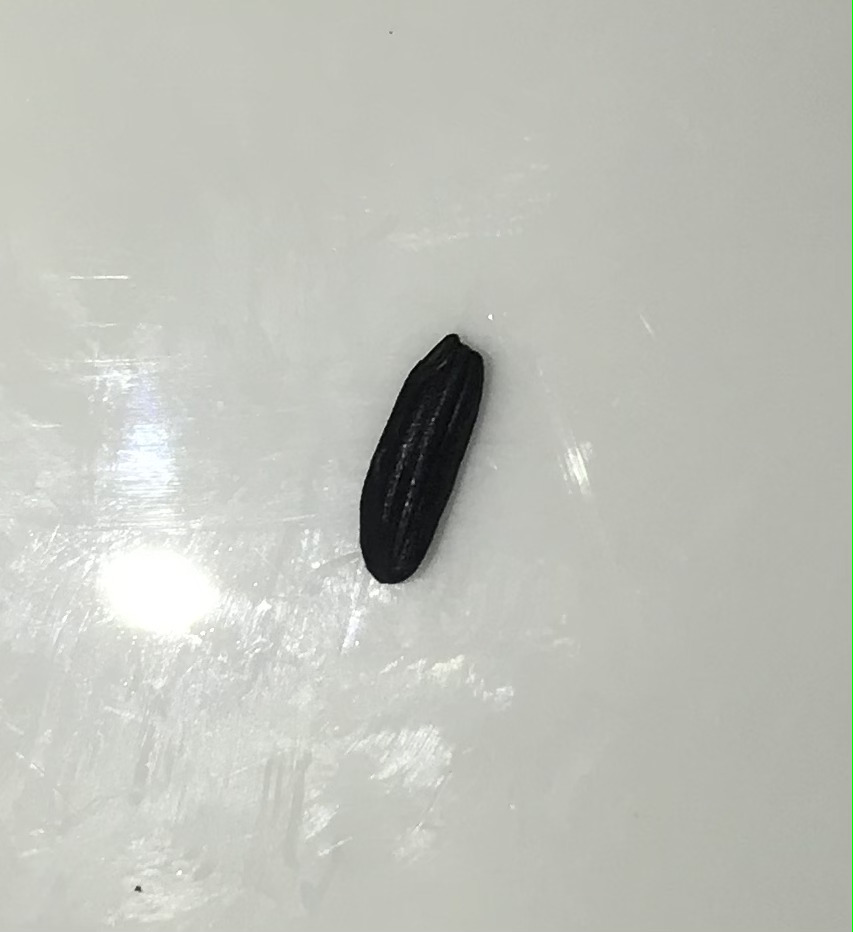Gao lut: (352, 335, 481, 583)
